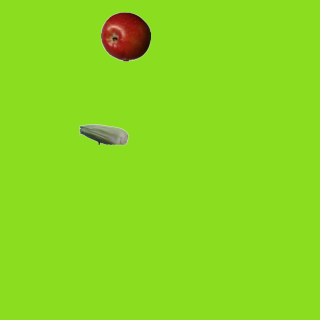Apple Braeburn: (100, 11, 150, 61)
Corn Husk: (78, 109, 128, 159)
